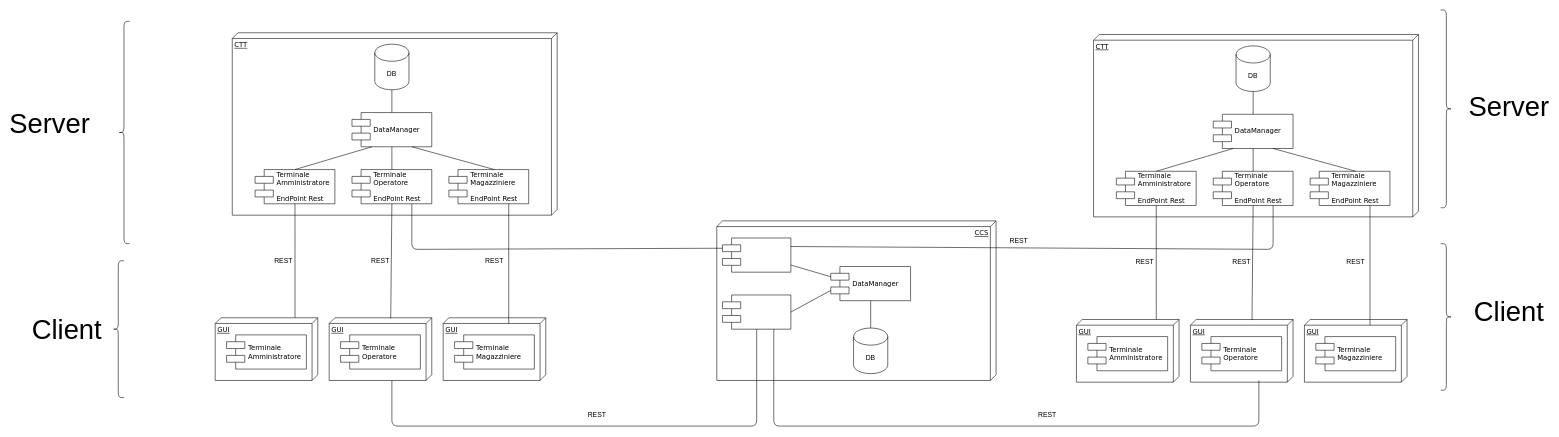
The diagram is 1559 pixels wide and 437 high, and some of its shapes have lost their labels. Here are the shapes that lost their labels. From the top down, the centre of each, then its label:
At (756,254): "Client Rest".
At (756,311): "EndPoint Rest".
